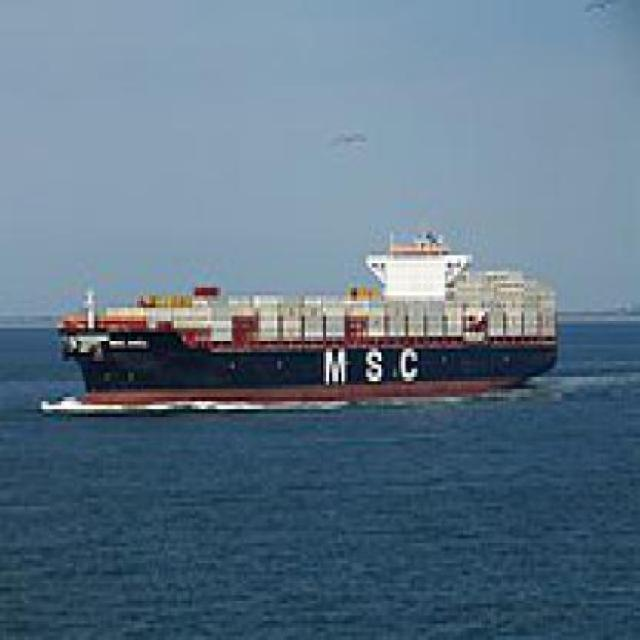container: (37, 223, 583, 419)
